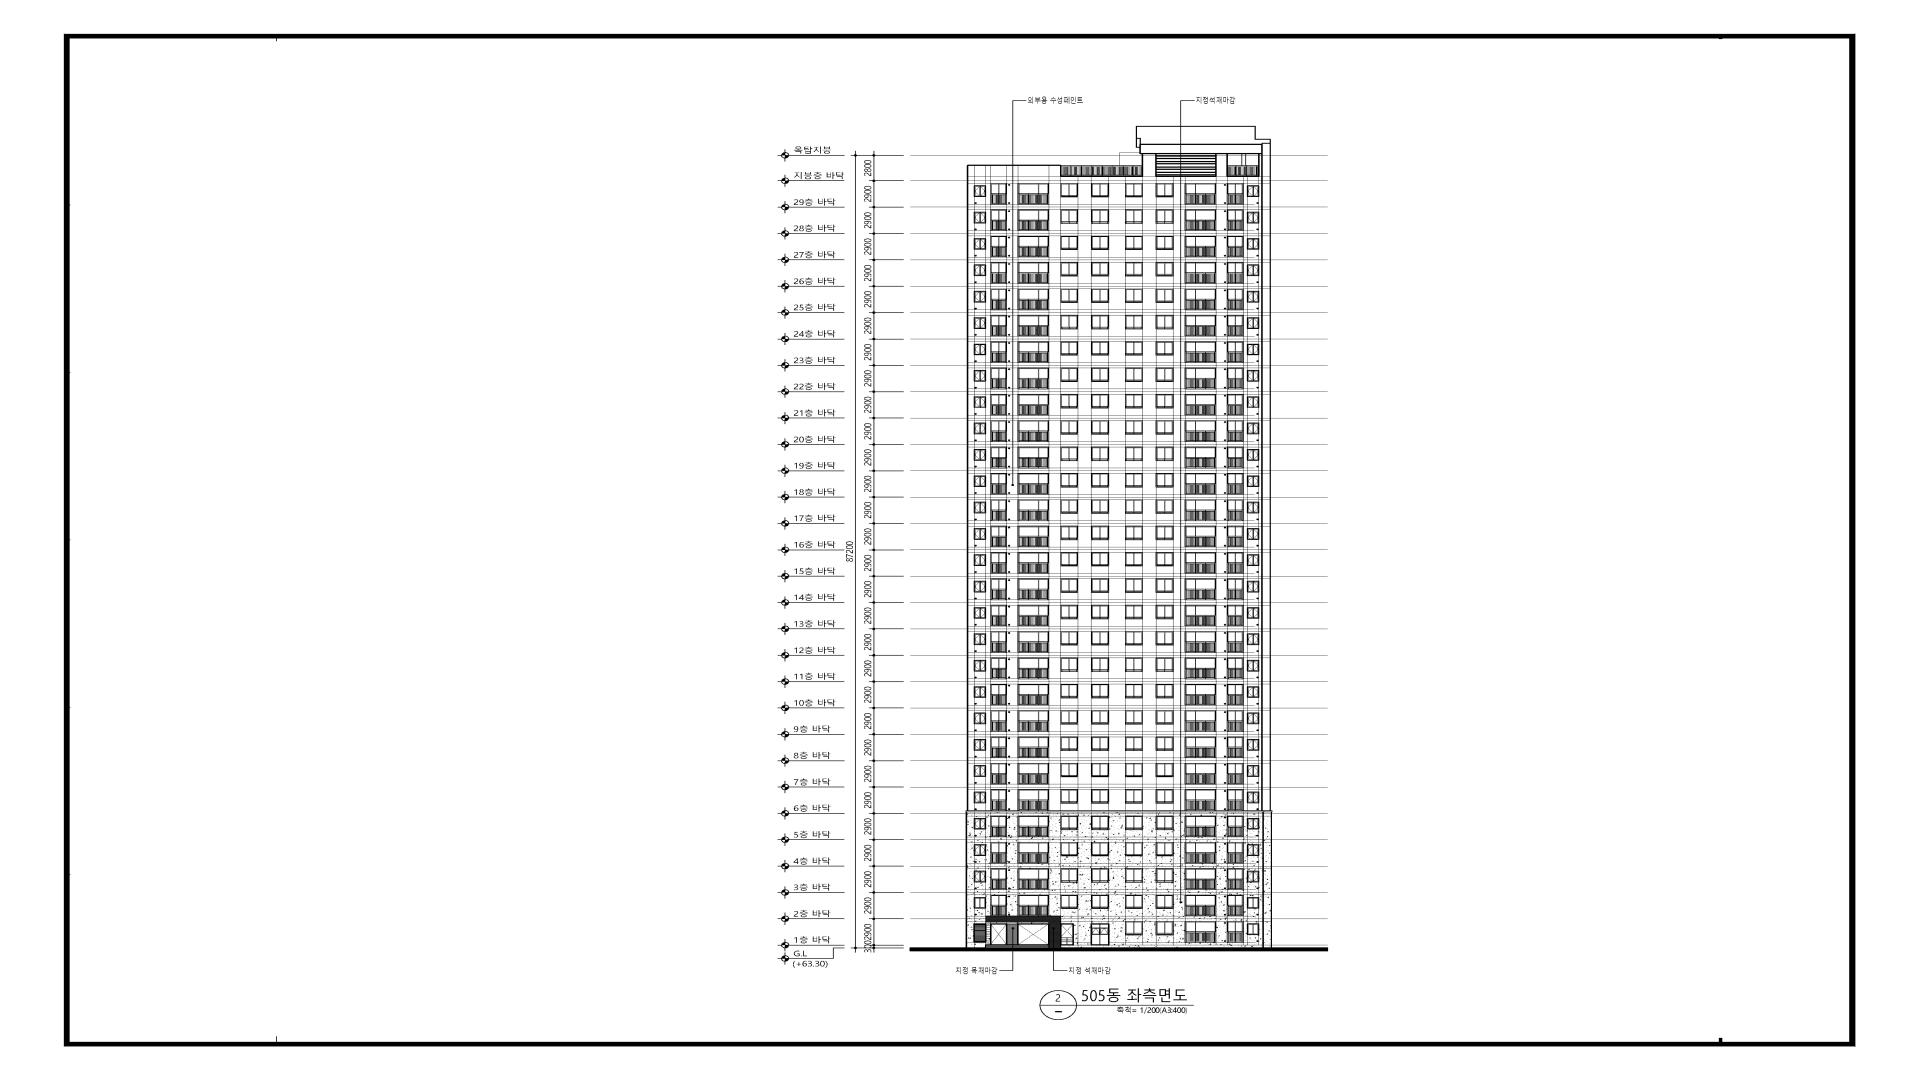door: (1017, 923, 1049, 945), (990, 923, 1008, 945)
wall: (966, 126, 1272, 951)
window: (1155, 153, 1217, 177), (1226, 153, 1259, 177), (1017, 367, 1049, 389), (1017, 262, 1049, 284), (1017, 209, 1049, 231), (1017, 183, 1049, 205), (1184, 341, 1216, 363), (1017, 868, 1049, 890), (1017, 842, 1049, 864), (1018, 631, 1050, 653), (1184, 842, 1216, 864), (1185, 763, 1217, 785), (1185, 209, 1217, 231), (1184, 578, 1216, 600), (1185, 473, 1217, 495), (1184, 420, 1216, 442), (1185, 921, 1216, 943), (1185, 262, 1216, 284), (1185, 183, 1216, 205), (1018, 789, 1049, 811), (1185, 868, 1216, 890), (1185, 789, 1216, 811), (1185, 684, 1216, 706), (1185, 631, 1216, 653), (1018, 473, 1049, 495), (1185, 552, 1216, 574), (1017, 895, 1049, 916), (1017, 342, 1049, 363), (1017, 315, 1049, 336), (1017, 236, 1049, 257), (1184, 289, 1216, 310), (1017, 737, 1049, 758), (1017, 658, 1049, 679), (1184, 737, 1216, 758), (1184, 711, 1216, 732), (1184, 658, 1216, 679), (1017, 605, 1049, 626), (1017, 579, 1049, 600), (1017, 552, 1049, 573), (1017, 421, 1049, 442), (1184, 605, 1216, 626), (1184, 526, 1216, 547), (1184, 447, 1216, 468), (1184, 394, 1216, 415), (1184, 368, 1216, 389), (1018, 289, 1049, 310), (1185, 895, 1216, 916), (1185, 315, 1216, 336), (1018, 816, 1049, 837), (1018, 763, 1049, 784), (1018, 711, 1049, 732), (1018, 684, 1049, 705), (1185, 816, 1216, 837), (1185, 236, 1216, 257), (1018, 526, 1049, 547), (1018, 500, 1049, 521), (1018, 447, 1049, 468), (1018, 394, 1049, 415), (1185, 500, 1216, 521), (1091, 923, 1109, 946), (1227, 631, 1244, 653), (990, 420, 1007, 442), (990, 394, 1007, 416), (990, 341, 1007, 363), (990, 315, 1007, 337), (990, 262, 1007, 284), (990, 209, 1007, 231), (990, 183, 1007, 205), (1227, 262, 1244, 284), (990, 868, 1007, 890), (990, 842, 1007, 864), (990, 789, 1007, 811), (990, 763, 1007, 785), (990, 710, 1007, 732), (990, 578, 1007, 600), (990, 552, 1007, 574), (990, 473, 1007, 495), (990, 368, 1007, 389), (990, 236, 1007, 257), (990, 895, 1007, 916), (990, 816, 1007, 837), (990, 737, 1007, 758), (990, 684, 1007, 705), (990, 658, 1007, 679), (990, 605, 1007, 626), (990, 526, 1007, 547), (990, 500, 1007, 521), (990, 447, 1007, 468), (1227, 921, 1243, 943), (1227, 789, 1243, 811), (1227, 473, 1243, 495), (1227, 209, 1243, 231), (1227, 183, 1243, 205), (1227, 868, 1243, 890), (1227, 842, 1243, 864), (1227, 710, 1243, 732), (1227, 552, 1243, 574), (1227, 420, 1243, 442), (1227, 763, 1243, 785), (1227, 736, 1243, 758), (1227, 578, 1243, 600), (1227, 341, 1243, 363), (991, 631, 1007, 653), (1227, 895, 1243, 916), (1227, 816, 1243, 837), (1227, 658, 1243, 679), (1227, 500, 1243, 521), (1227, 394, 1243, 415), (1227, 368, 1243, 389), (1227, 236, 1243, 257), (991, 289, 1007, 310), (1227, 684, 1243, 705), (1227, 526, 1243, 547), (1227, 447, 1243, 468), (1227, 289, 1243, 310), (1227, 605, 1243, 626), (1227, 315, 1243, 336), (1060, 499, 1078, 514), (1060, 288, 1078, 303), (1060, 262, 1078, 277), (1091, 710, 1109, 725), (1091, 578, 1109, 593), (1091, 552, 1109, 567), (1091, 499, 1109, 514), (1091, 341, 1109, 356), (1125, 921, 1143, 936), (1125, 868, 1143, 883), (1125, 842, 1143, 857), (1125, 631, 1143, 646), (1125, 341, 1143, 356), (1125, 209, 1143, 224), (1155, 631, 1173, 646), (1155, 499, 1173, 514), (1155, 341, 1173, 356), (1060, 868, 1078, 883), (1060, 789, 1078, 804), (1060, 578, 1078, 593), (1060, 341, 1078, 356), (1091, 842, 1109, 857), (1091, 789, 1109, 804), (1091, 631, 1109, 646), (1125, 710, 1143, 725), (1125, 552, 1143, 567), (1125, 499, 1143, 514), (1125, 446, 1143, 461), (1125, 420, 1143, 435), (1155, 552, 1173, 567), (1060, 657, 1078, 672), (1060, 631, 1078, 646), (1060, 473, 1078, 488), (1060, 420, 1078, 435), (1060, 209, 1078, 224), (1091, 868, 1109, 883), (1091, 473, 1109, 488), (1091, 420, 1109, 435), (1091, 209, 1109, 224), (1125, 789, 1143, 804), (1125, 578, 1143, 593), (1155, 420, 1173, 435), (973, 923, 986, 943), (1156, 921, 1173, 936), (1156, 710, 1173, 725), (1156, 657, 1173, 672), (1156, 578, 1173, 593), (1061, 552, 1078, 567), (1156, 367, 1173, 382), (1156, 209, 1173, 224), (1156, 183, 1173, 198), (1060, 763, 1078, 777), (1060, 737, 1078, 751), (1060, 711, 1078, 725), (1060, 526, 1078, 540), (1060, 315, 1078, 329), (1060, 236, 1078, 250), (1091, 737, 1109, 751), (1091, 526, 1109, 540), (1091, 394, 1109, 408), (1091, 368, 1109, 382), (1091, 315, 1109, 329), (1125, 895, 1143, 909), (1125, 658, 1143, 672), (1125, 394, 1143, 408), (1125, 368, 1143, 382), (1125, 315, 1143, 329), (1125, 289, 1143, 303), (1125, 236, 1143, 250), (1125, 183, 1143, 197), (1155, 895, 1173, 909), (1155, 842, 1173, 856), (1155, 816, 1173, 830), (1155, 473, 1173, 487), (1155, 315, 1173, 329), (1155, 236, 1173, 250), (1060, 842, 1078, 856), (1060, 816, 1078, 830), (1060, 394, 1078, 408), (1060, 368, 1078, 382), (1091, 816, 1109, 830), (1091, 763, 1109, 777), (1091, 605, 1109, 619), (1125, 684, 1143, 698), (1125, 526, 1143, 540), (1125, 473, 1143, 487), (1155, 394, 1173, 408), (1155, 262, 1173, 276), (1060, 895, 1078, 909), (1060, 684, 1078, 698), (1060, 605, 1078, 619), (1060, 447, 1078, 461), (1060, 183, 1078, 197), (1091, 895, 1109, 909), (1091, 684, 1109, 698), (1091, 658, 1109, 672), (1091, 447, 1109, 461), (1091, 289, 1109, 303), (1091, 262, 1109, 276), (1091, 236, 1109, 250), (1091, 183, 1109, 197), (1125, 816, 1143, 830), (1125, 763, 1143, 777), (1125, 737, 1143, 751), (1125, 605, 1143, 619), (1155, 447, 1173, 461), (1125, 262, 1142, 276), (1156, 869, 1173, 883), (1156, 789, 1173, 803), (1156, 763, 1173, 777), (1156, 737, 1173, 751), (1156, 684, 1173, 698), (1156, 605, 1173, 619), (1156, 526, 1173, 540), (1156, 289, 1173, 303), (1061, 923, 1074, 938), (974, 633, 986, 645), (974, 607, 986, 619), (974, 554, 986, 566), (974, 528, 986, 540), (974, 475, 986, 487), (974, 449, 986, 461), (974, 396, 986, 408), (974, 317, 986, 329), (974, 264, 986, 276), (974, 238, 986, 250), (1247, 897, 1259, 909), (1247, 844, 1259, 856), (1247, 818, 1259, 830), (1247, 765, 1259, 777), (1247, 686, 1259, 698), (1247, 607, 1259, 619), (1247, 554, 1259, 566), (1247, 528, 1259, 540), (1247, 475, 1259, 487), (1247, 449, 1259, 461), (1247, 185, 1259, 197), (974, 897, 986, 909), (974, 844, 986, 856), (974, 818, 986, 830), (974, 765, 986, 777), (974, 739, 986, 751), (974, 686, 986, 698), (1247, 396, 1259, 408), (1247, 317, 1259, 329), (1247, 238, 1259, 250), (974, 581, 986, 592), (974, 502, 986, 513), (974, 423, 986, 434), (974, 370, 986, 381), (974, 344, 986, 355), (974, 291, 986, 302), (974, 212, 986, 223), (974, 186, 986, 197), (1247, 924, 1259, 935), (1247, 871, 1259, 882), (1247, 792, 1259, 803), (1247, 739, 1259, 750), (1247, 713, 1259, 724), (1247, 660, 1259, 671), (1247, 634, 1259, 645), (1247, 581, 1259, 592), (1247, 502, 1259, 513), (974, 871, 986, 882), (974, 792, 986, 803), (974, 713, 986, 724), (974, 660, 986, 671), (1247, 423, 1259, 434), (1247, 370, 1259, 381), (1247, 344, 1259, 355), (1247, 291, 1259, 302), (1247, 265, 1259, 276), (1247, 212, 1259, 223)
